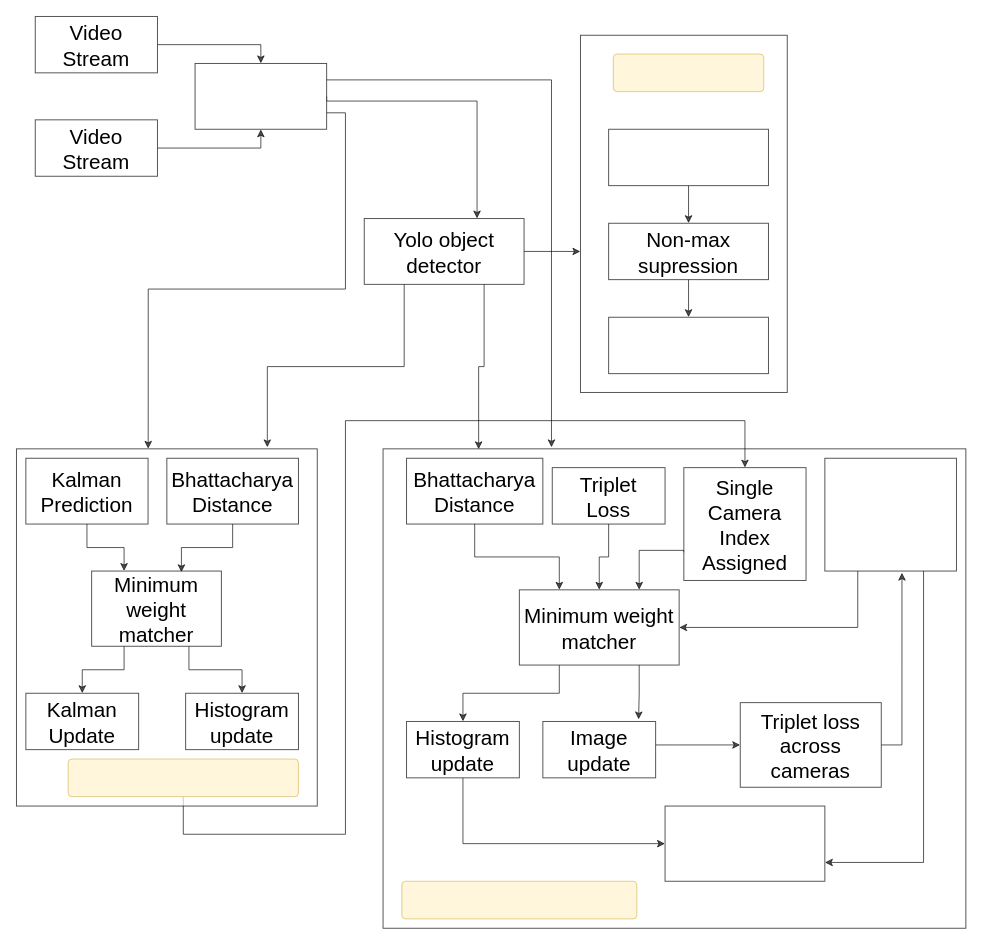
The diagram is 982 pixels wide and 945 high, and some of its shapes have lost their labels. Each missing label, with the box of its shape:
Bhattacharya distance across cameras: (664, 805, 825, 881)
DETECTION: (612, 53, 764, 92)
Dissimilarity for current image: (824, 457, 956, 571)
IOU thresholding: (608, 316, 768, 374)
Multi Cam Tracking: (401, 880, 637, 919)
Preprocessor: (194, 63, 327, 129)
Single Cam Tracking: (67, 758, 298, 797)
Yolo model: (608, 128, 768, 186)
